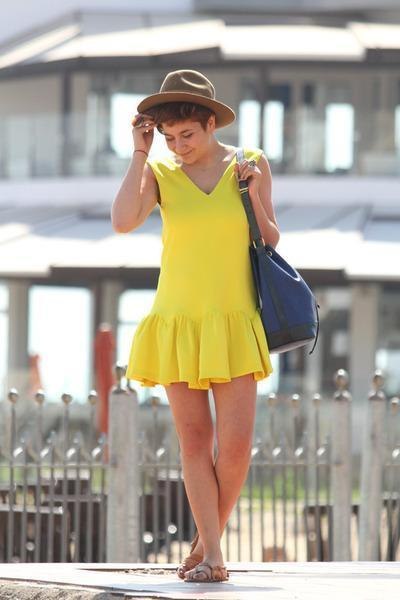bag: (239, 180, 314, 352)
dress: (125, 163, 275, 388)
hat: (165, 72, 210, 100)
